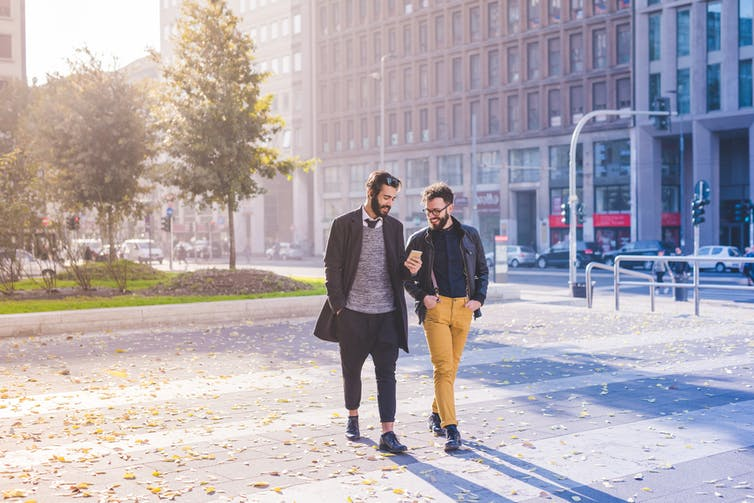person: (304, 162, 424, 457), (401, 178, 496, 459)
